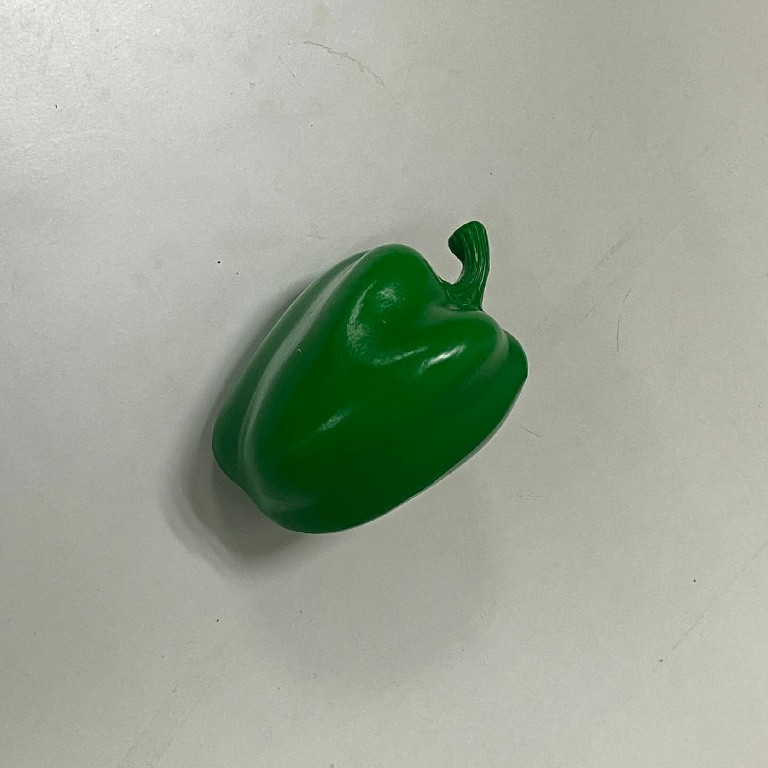fruit_pepper: (206, 218, 533, 540)
